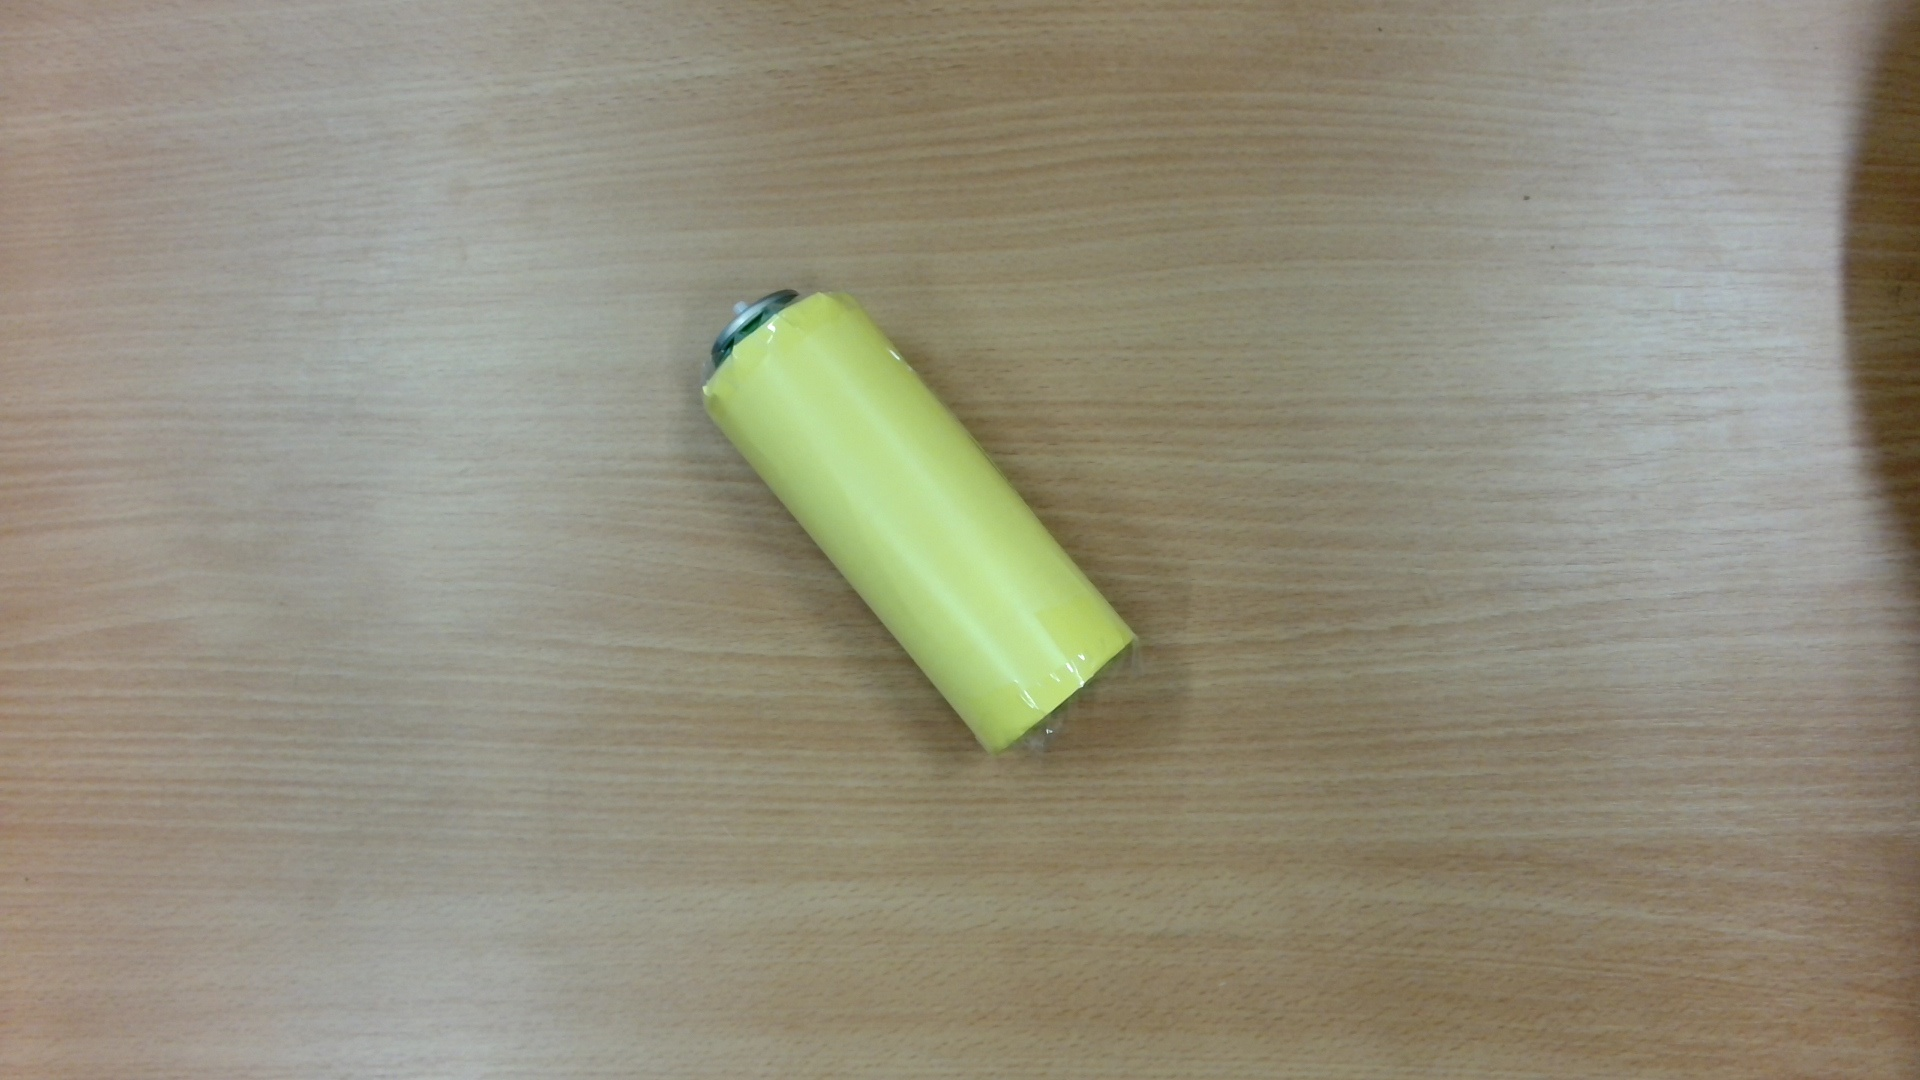Cylinder: (692, 270, 1160, 775)
